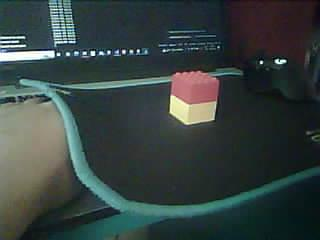lego: (169, 70, 220, 125)
